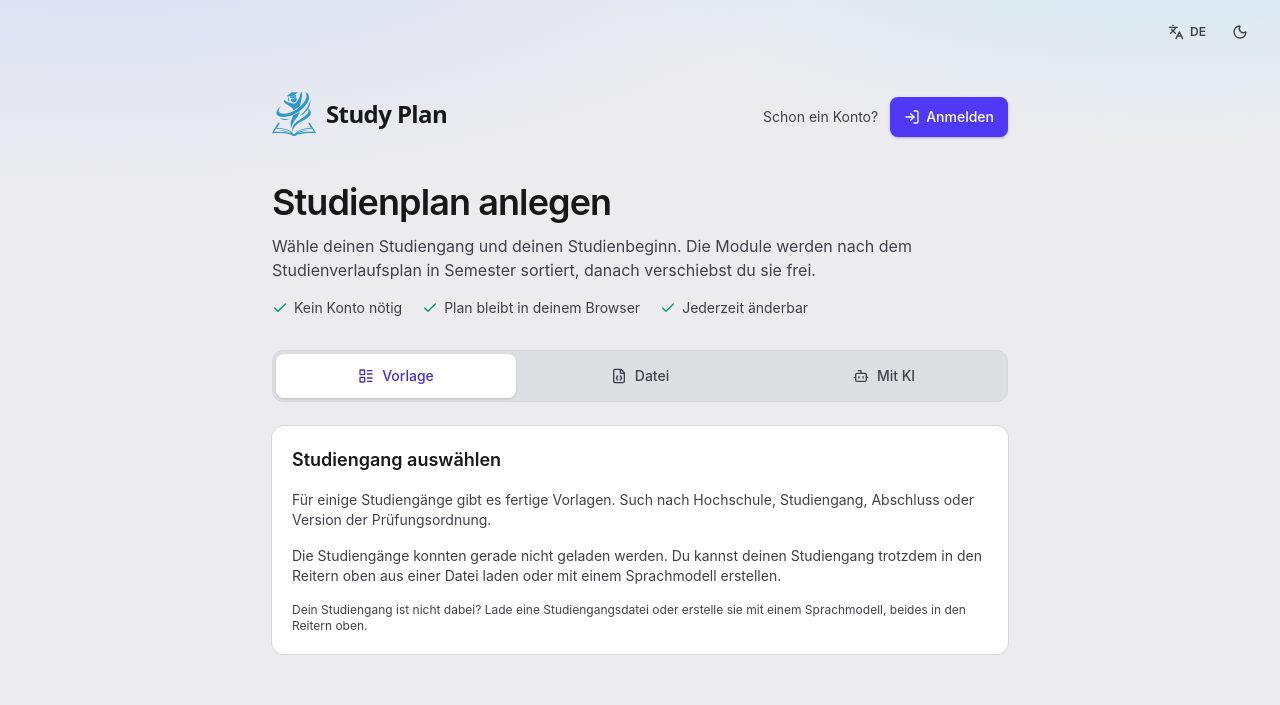
Test: programme flow on the start page › opens on the templates and switches between the three ways in tabs
Expected: the heading "Studienplan anlegen" is shown, [272, 180, 611, 224]
Expected: the element "Studiengang auswählen" is shown, [272, 426, 1008, 654]
Click the tab "Mit KI".
click(884, 376)  # box [764, 354, 1004, 398]
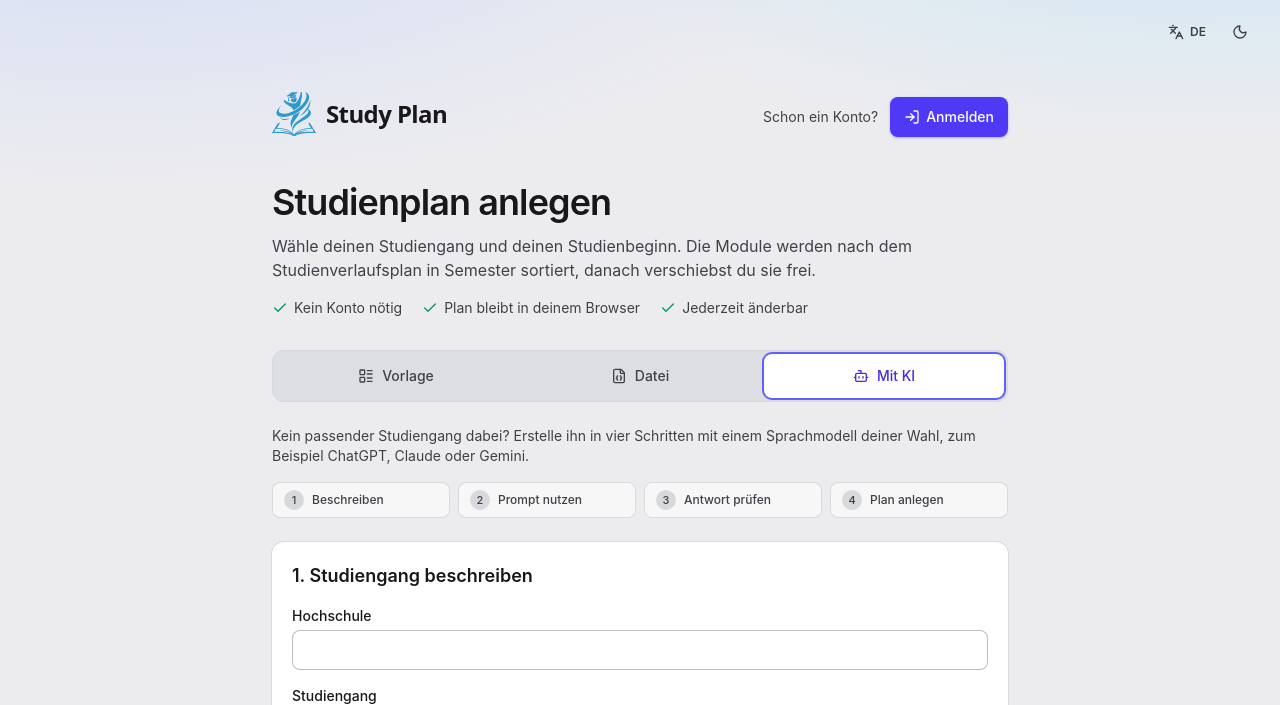
Result: the heading "1. Studiengang beschreiben" is shown at [292, 565, 533, 586]
Result: the list named "Fortschritt" is shown at [272, 482, 1008, 518]
Click the tab "Datei".
click(640, 376)  # box [520, 354, 760, 398]
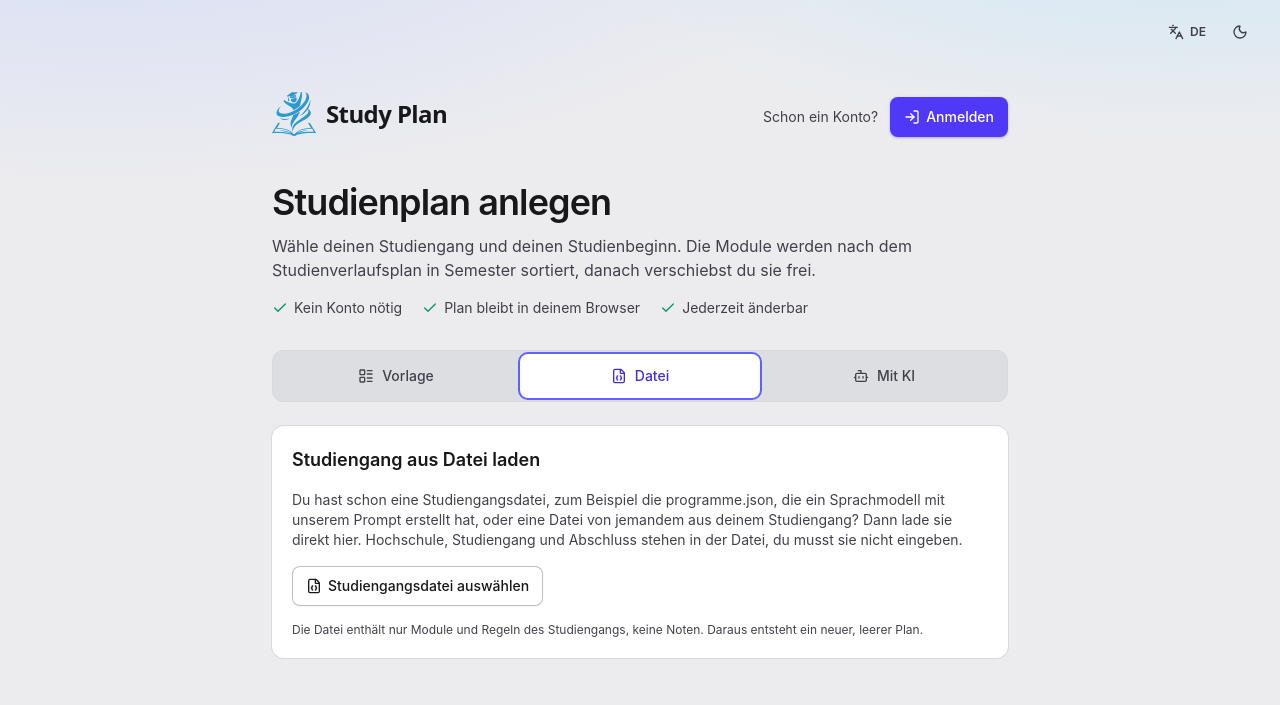
Result: the element "Studiengang aus Datei laden" is shown at [272, 426, 1008, 658]
